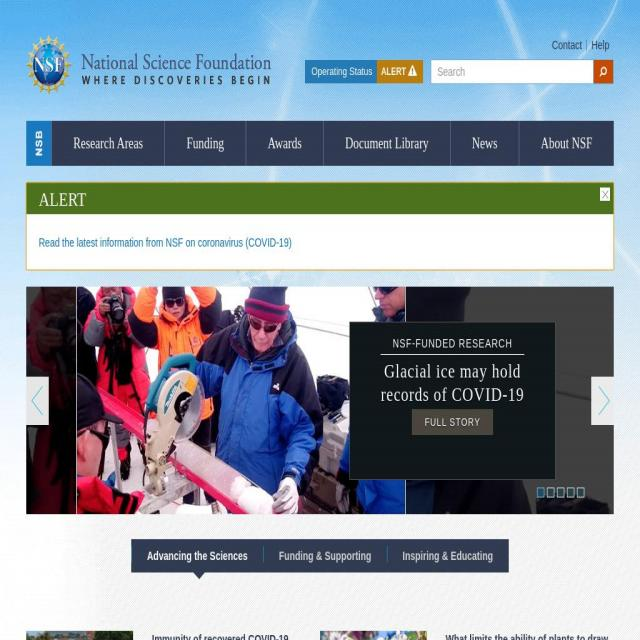button: (17, 26, 280, 101), (323, 121, 450, 166), (52, 121, 165, 166), (131, 539, 264, 573), (518, 121, 614, 166), (263, 539, 388, 573), (387, 539, 509, 573), (164, 121, 246, 166), (246, 121, 323, 166), (450, 121, 519, 166), (305, 60, 424, 83), (26, 631, 320, 640), (320, 631, 614, 640), (411, 410, 493, 434), (26, 121, 52, 165), (26, 376, 49, 425), (591, 376, 614, 425), (548, 37, 587, 53), (592, 59, 614, 84), (588, 37, 614, 53), (600, 187, 610, 201)
field: (430, 59, 594, 84)
